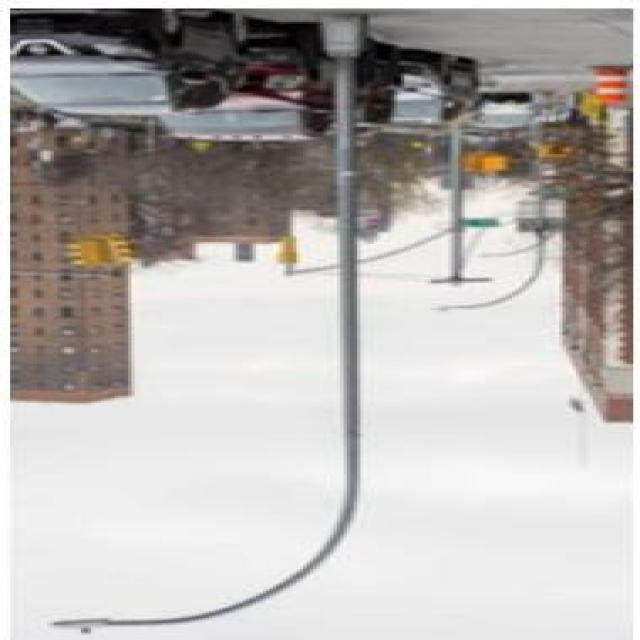off: (20, 586, 372, 640)
